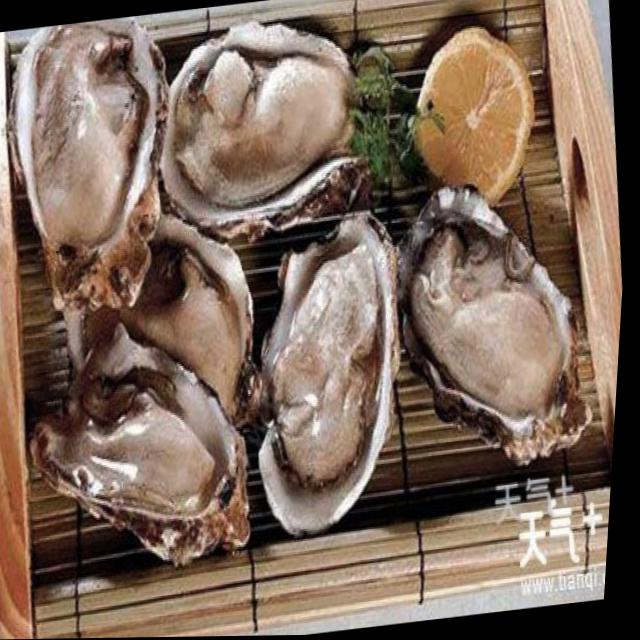Oyster-Open: (18, 308, 275, 582), (386, 175, 607, 478), (142, 8, 406, 254), (0, 15, 185, 344), (233, 201, 403, 550), (48, 197, 274, 447)
